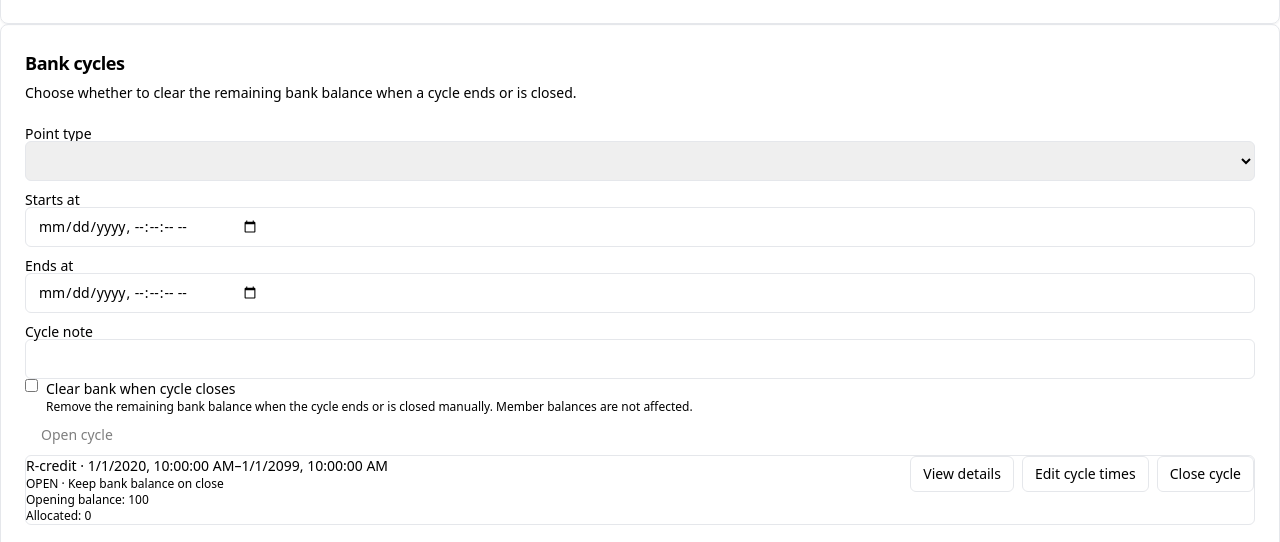
Test: shows past-time validation beside the edited cycle
The image size is (1280, 542).
(page scrolled)
Click the button "Edit cycle times". click: coordinates (1085, 474)
box: [1022, 456, 1149, 492]
(page scrolled)
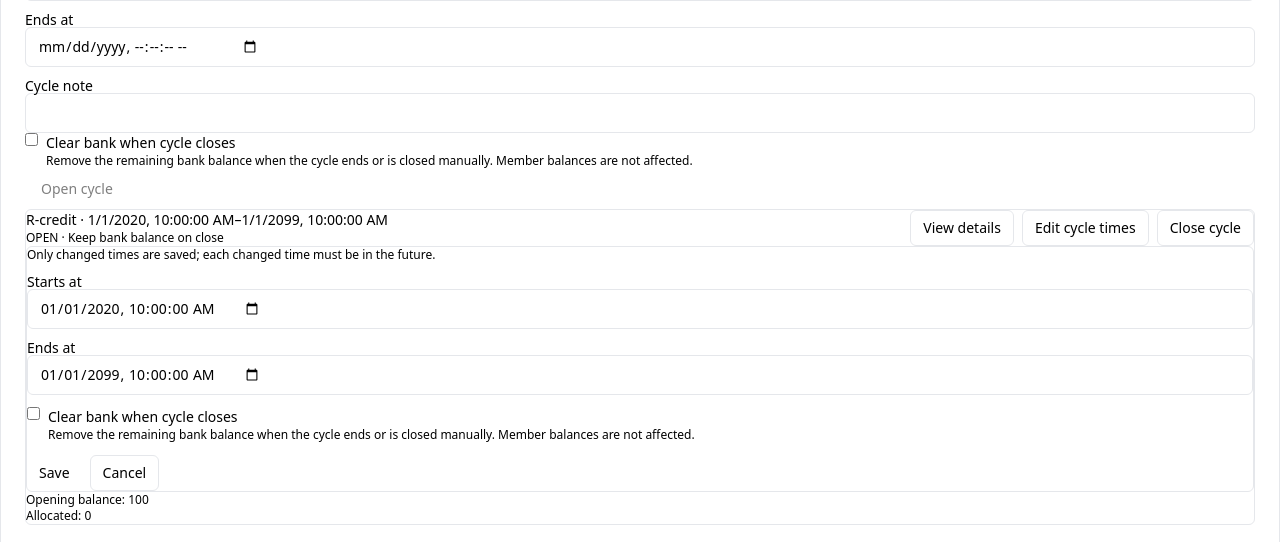
Replace the text in the field with id "edit-cycle-end-cycle-test" with "2021-01-01T10:00:00". click: coordinates (640, 375)
box: [27, 355, 1253, 395]
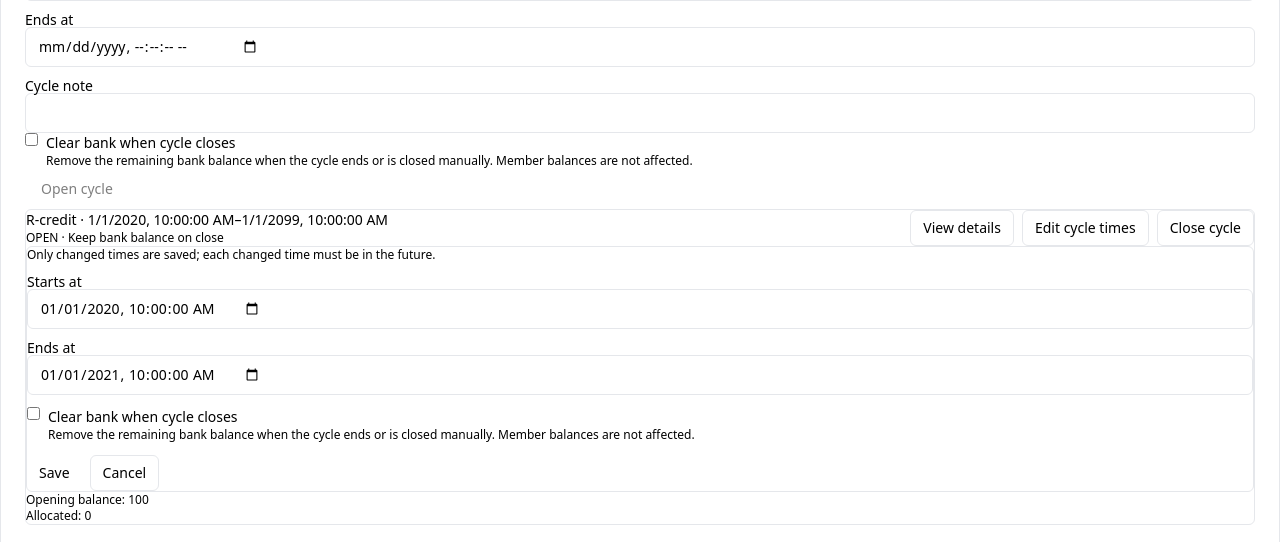
Click the button "Save". click: coordinates (54, 473)
box: [27, 455, 82, 491]
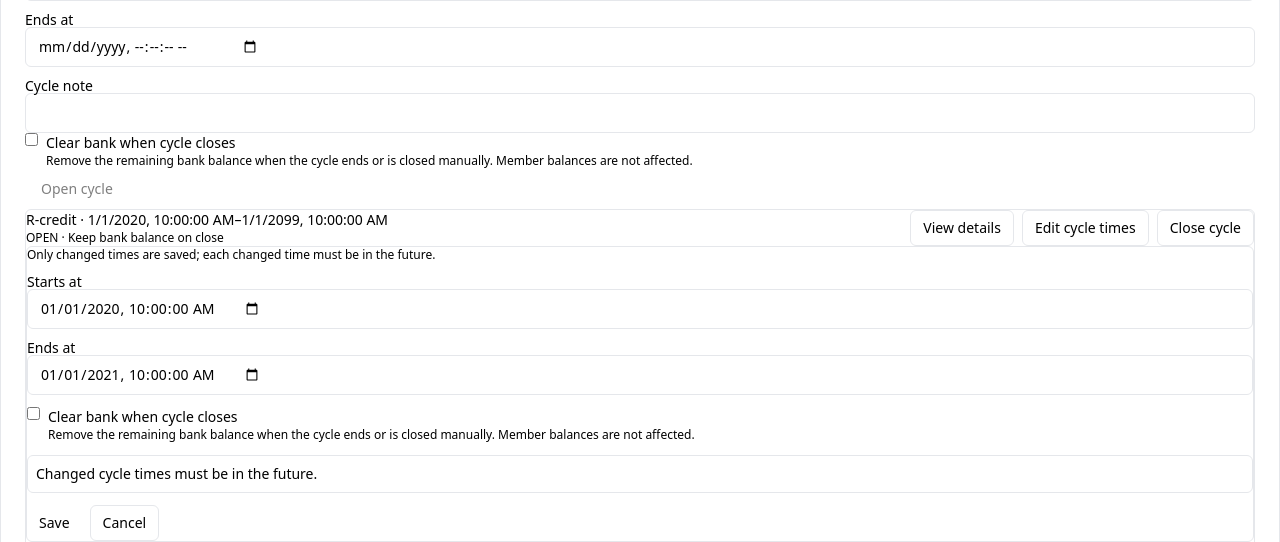
expect the message reads "Changed cycle times must be in the future.": met, box [36, 464, 317, 483]
